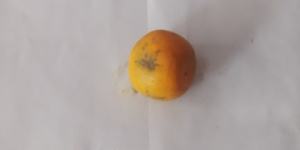BAD: (127, 31, 198, 100)
